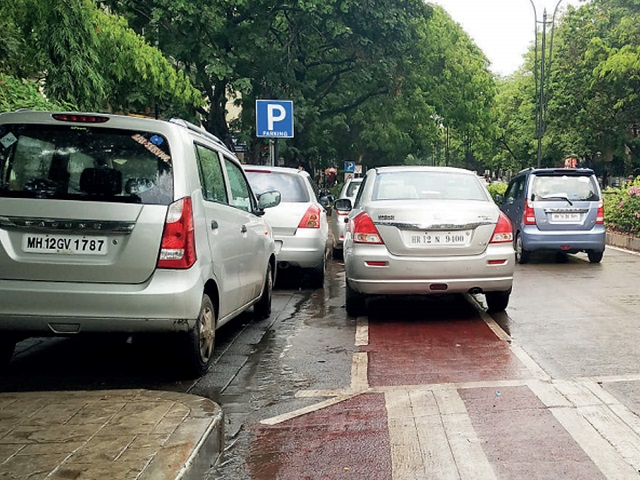car: (2, 111, 275, 364), (347, 168, 514, 312), (246, 166, 327, 287), (509, 168, 606, 260)
pedestrian lane: (215, 381, 640, 480)
tree branches: (274, 9, 402, 114)
